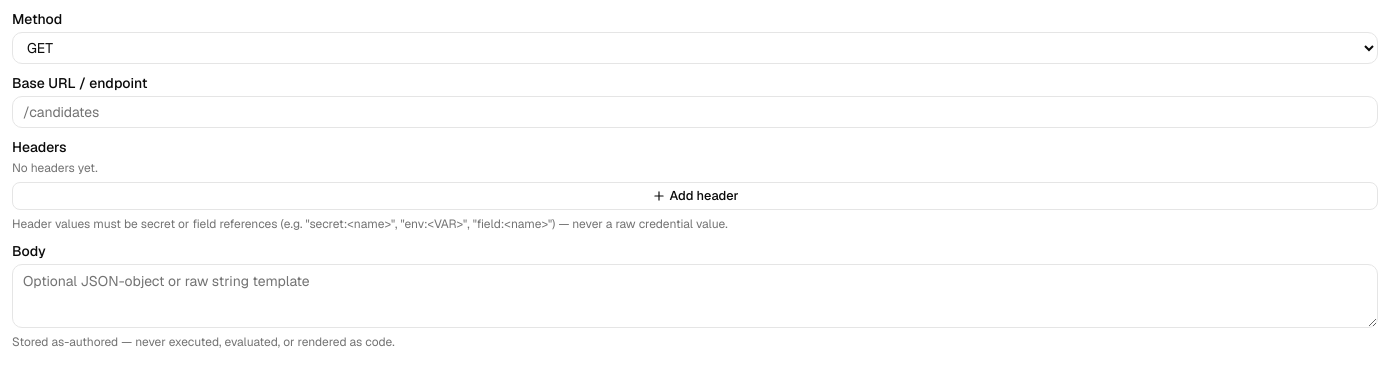
HttpRequestConfigEditor › shows the body credential-shape warning for a suspicious literal
In the text box labelled "Body": (695, 296) [12,264,1378,328], type "sk_fake1234567890"
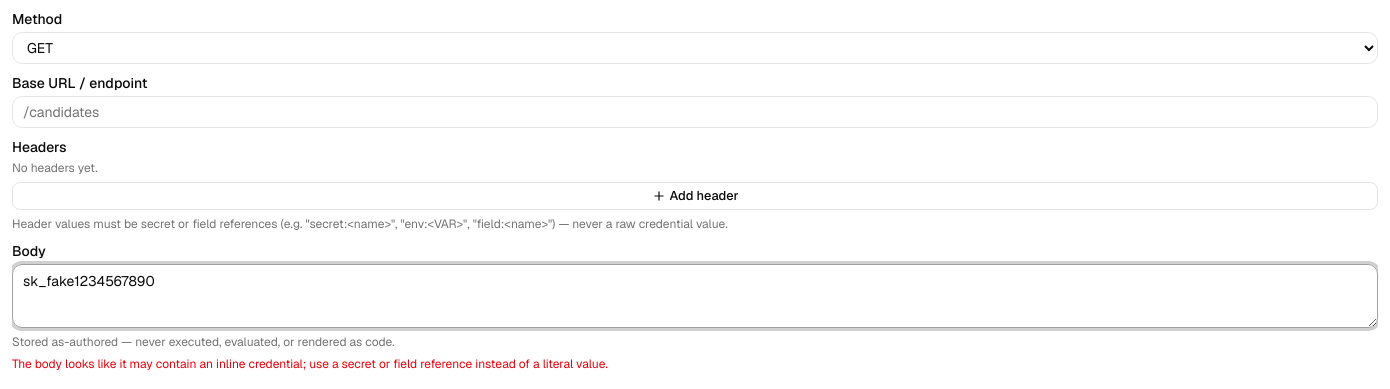
Expected: the text "inline credential" is shown, [12,356,608,372]
